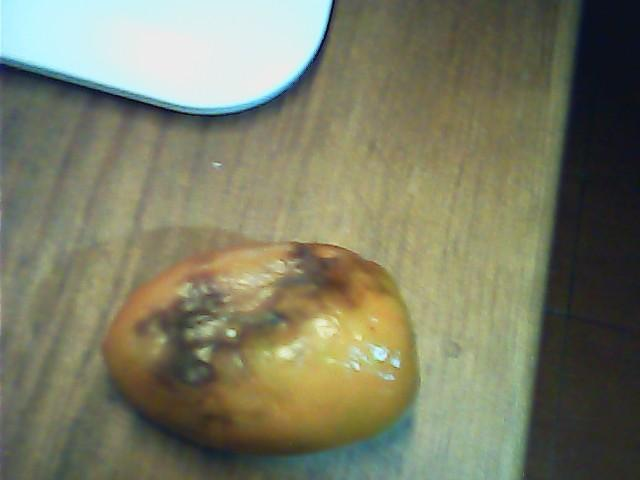defectuoso: (102, 242, 419, 457)
